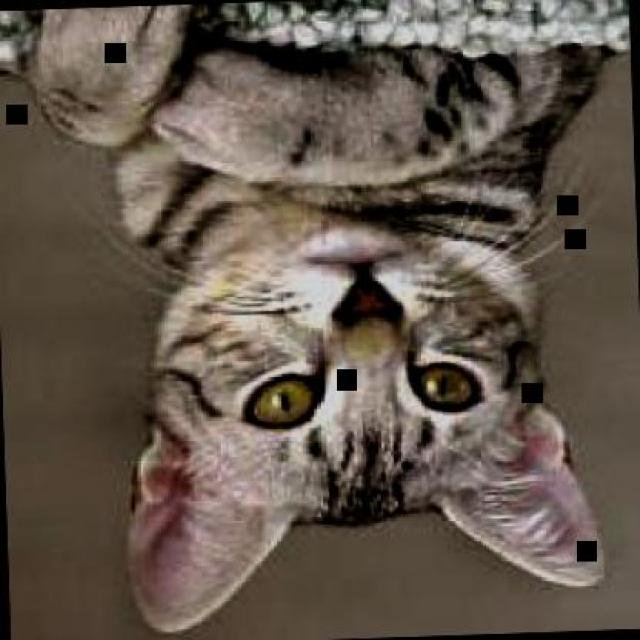cat: (31, 0, 617, 638)
